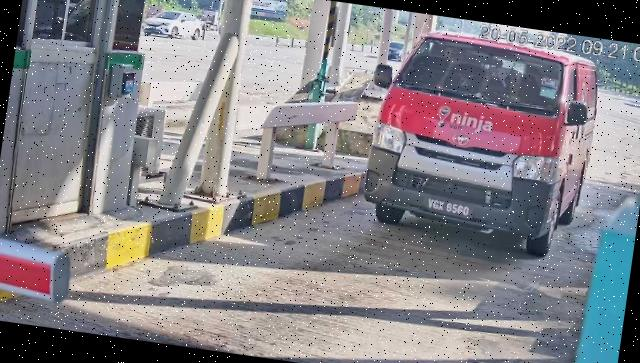License_Plate: (421, 194, 477, 221)
van: (358, 27, 606, 264)
